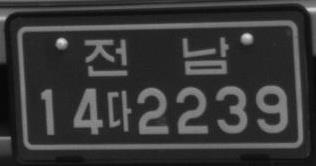1: (36, 87, 61, 136)
2: (175, 85, 209, 136), (136, 86, 169, 135)
3: (214, 84, 248, 134)
4: (71, 86, 104, 135)
9: (254, 83, 290, 134)
다: (105, 89, 133, 133)
전남_D: (83, 35, 231, 78)
